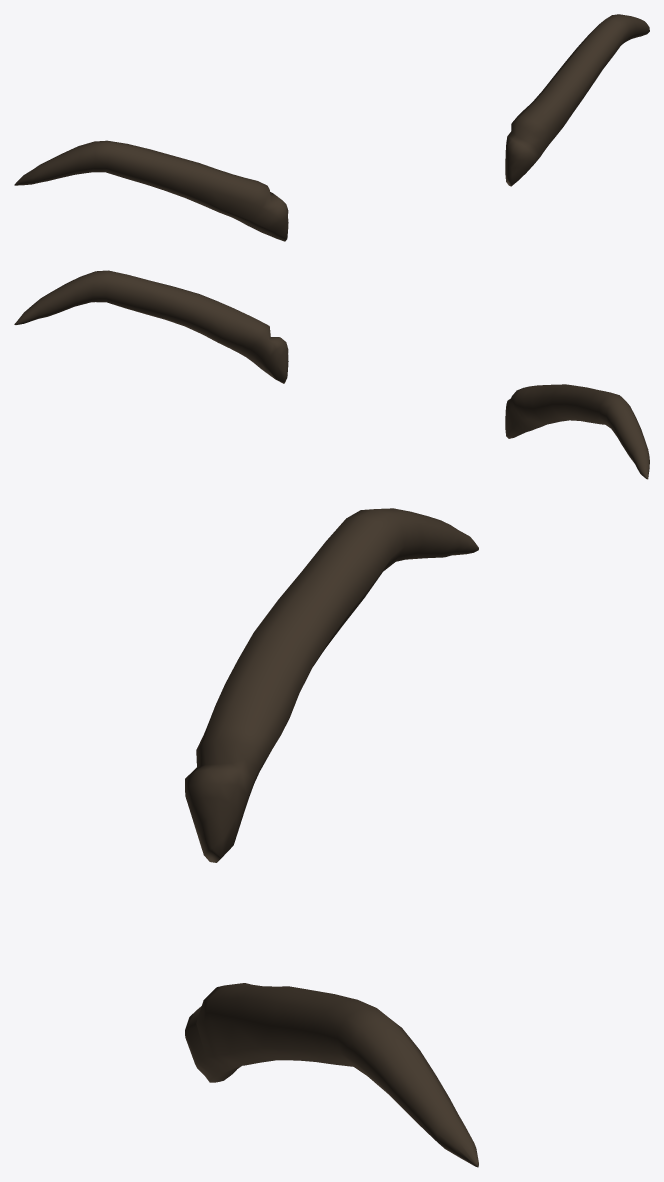
Rendered from steep arch.glb.
3 renders of one model, top to bottom at view 1: azimuth 30°, elevation 25°; view 2: azimuth 150°, elevation 25°; view 3: azimuth 270°, elevation 25°, orthographic. The views are drawn at different scales.
Parts seen in each view (by area): view 1: steep_arch1; view 2: steep_arch1; view 3: steep_arch1.
Part boxes in pixels (<box>): steep_arch1: <box>14,14,649,241</box>; steep_arch1: <box>14,270,649,479</box>; steep_arch1: <box>185,508,478,1167</box>.
Size of the model in its own units: 0.00577 by 0.000915 by 0.00116.
